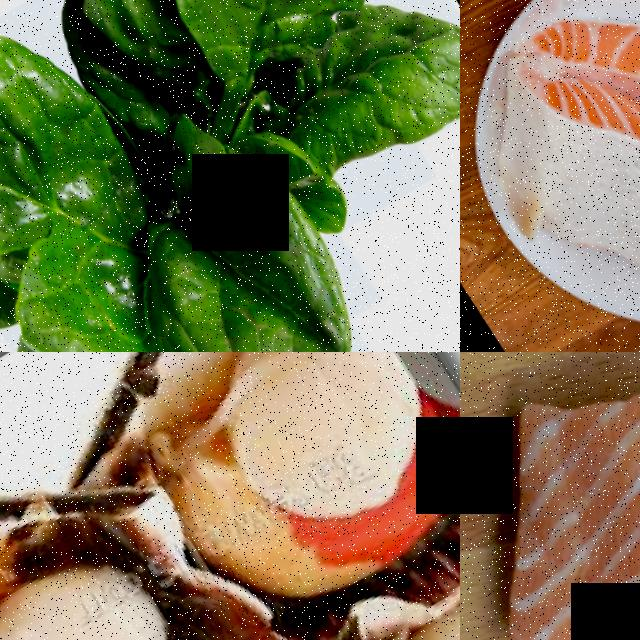salmon: (460, 352, 640, 640), (577, 0, 640, 338)
spinach: (87, 132, 381, 352), (0, 0, 139, 301), (269, 0, 460, 191), (142, 0, 414, 53)
